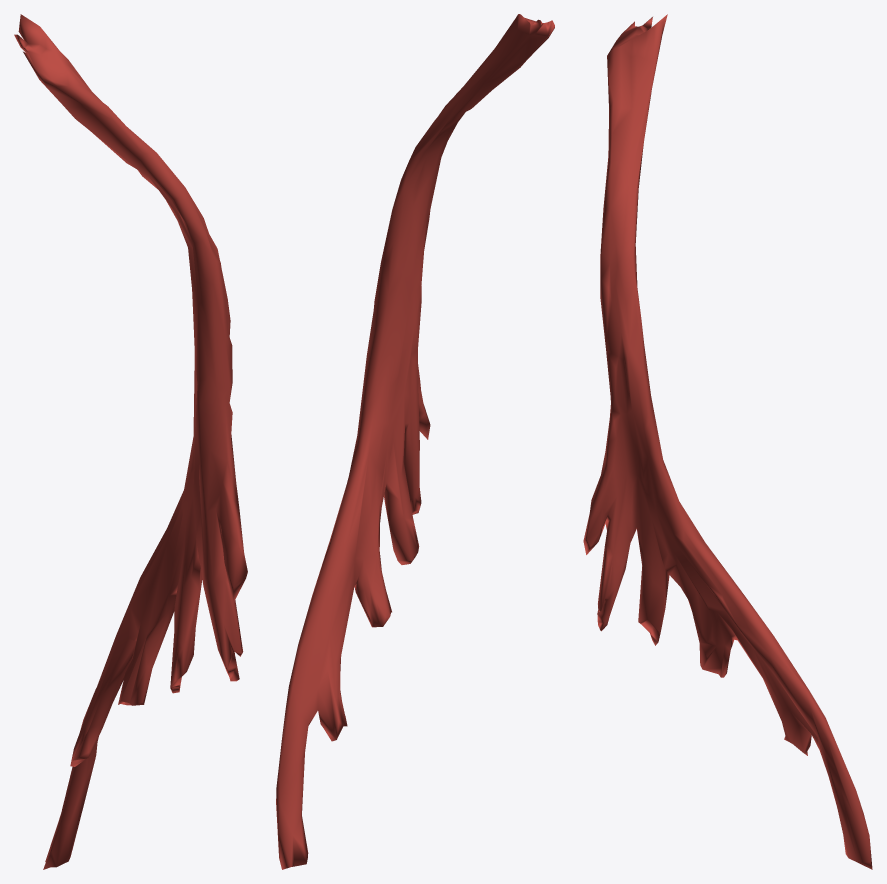
Rendered from musculos-longissimus-capitis-muscle-r.glb.
The picture shows the model from 3 angles, left to right: view 1: azimuth 30°, elevation 25°; view 2: azimuth 150°, elevation 25°; view 3: azimuth 270°, elevation 25°; orthographic projection. The views are drawn at different scales.
Parts seen in each view (by area): view 1: Longissimus capitis muscle.r; view 2: Longissimus capitis muscle.r; view 3: Longissimus capitis muscle.r.
Boxes of the visible parts, <box> form: Longissimus capitis muscle.r: <box>14,14,247,869</box>; Longissimus capitis muscle.r: <box>276,14,554,869</box>; Longissimus capitis muscle.r: <box>583,14,872,869</box>.
Size of the model in its own units: 0.0351 by 0.157 by 0.0519.
